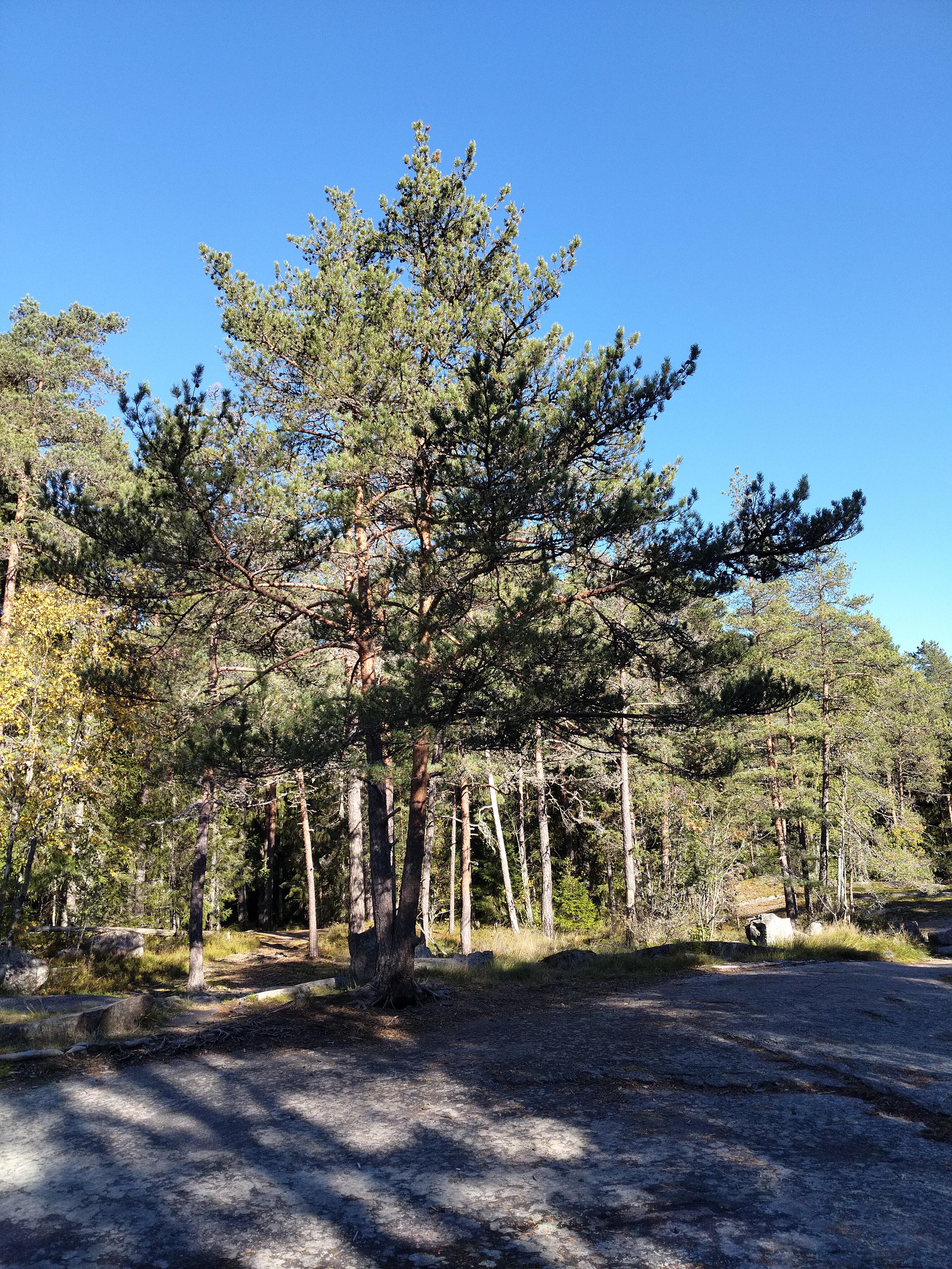Pine: (216, 117, 704, 991)
